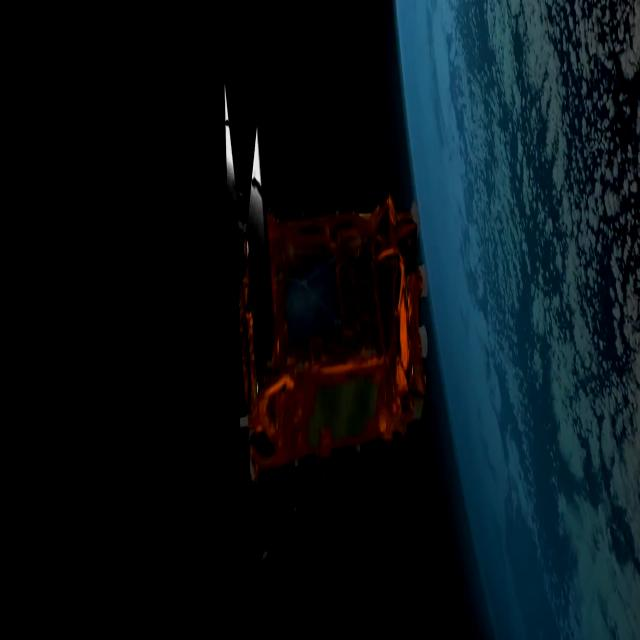medium_debris: (196, 54, 442, 521)
